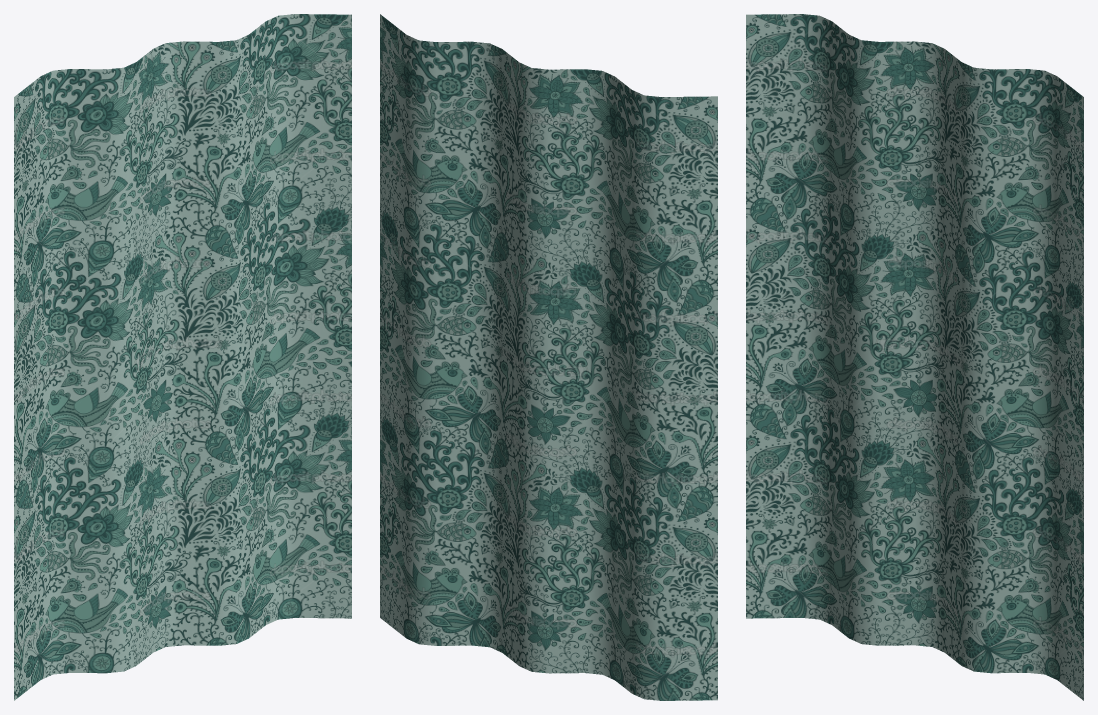
Rendered from Background_Curtains.FBX.
The picture shows the model from 3 angles, left to right: view 1: azimuth 30°, elevation 25°; view 2: azimuth 150°, elevation 25°; view 3: azimuth 330°, elevation 25°; orthographic projection.
Parts seen in each view (by area): view 1: Background_Curtains; view 2: Background_Curtains; view 3: Background_Curtains.
Boxes of the visible parts, x1=… form: Background_Curtains: x1=14, y1=14, x2=351, y2=700; Background_Curtains: x1=380, y1=14, x2=717, y2=700; Background_Curtains: x1=746, y1=14, x2=1083, y2=700.
Bounding box in the file's own units: 27 × 46.12 × 2.41.
